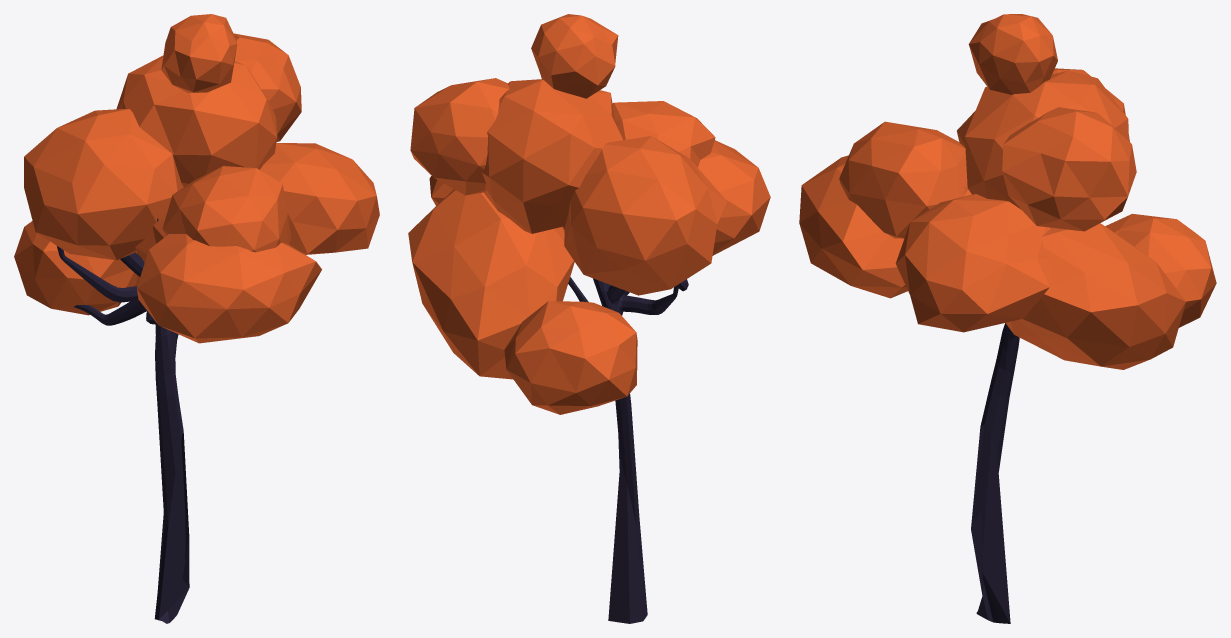
Rendered from env_tree_type2.fbx.
3 renders of one model, left to right at view 1: azimuth 30°, elevation 25°; view 2: azimuth 150°, elevation 25°; view 3: azimuth 270°, elevation 25°, orthographic. The views are drawn at different scales.
Visible parts, largest first — view 1: leaves 2, trunk 2; view 2: leaves 2, trunk 2; view 3: leaves 2, trunk 2.
Boxes of the visible parts, <box> form: leaves 2: <box>14,14,379,343</box>; trunk 2: <box>57,218,189,623</box>; leaves 2: <box>408,14,770,414</box>; trunk 2: <box>568,277,688,623</box>; leaves 2: <box>799,14,1216,369</box>; trunk 2: <box>971,323,1019,623</box>.
Size of the model in its own units: 6821 by 12458 by 7544.
